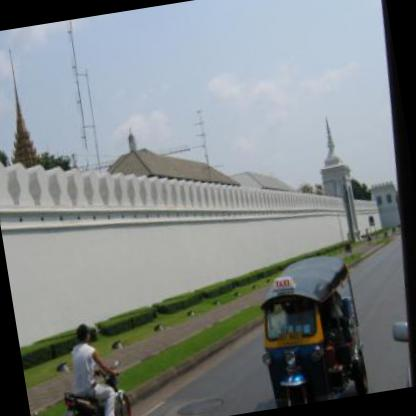motorcycle: (52, 369, 134, 415)
